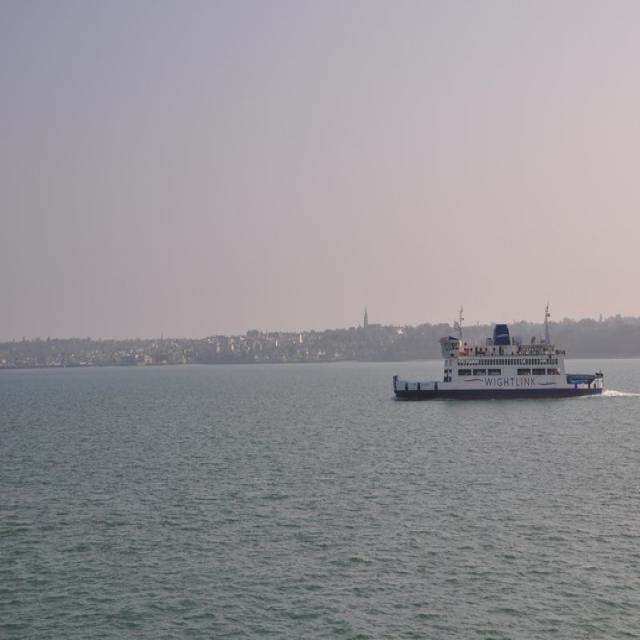sailboat: (373, 307, 600, 405)
